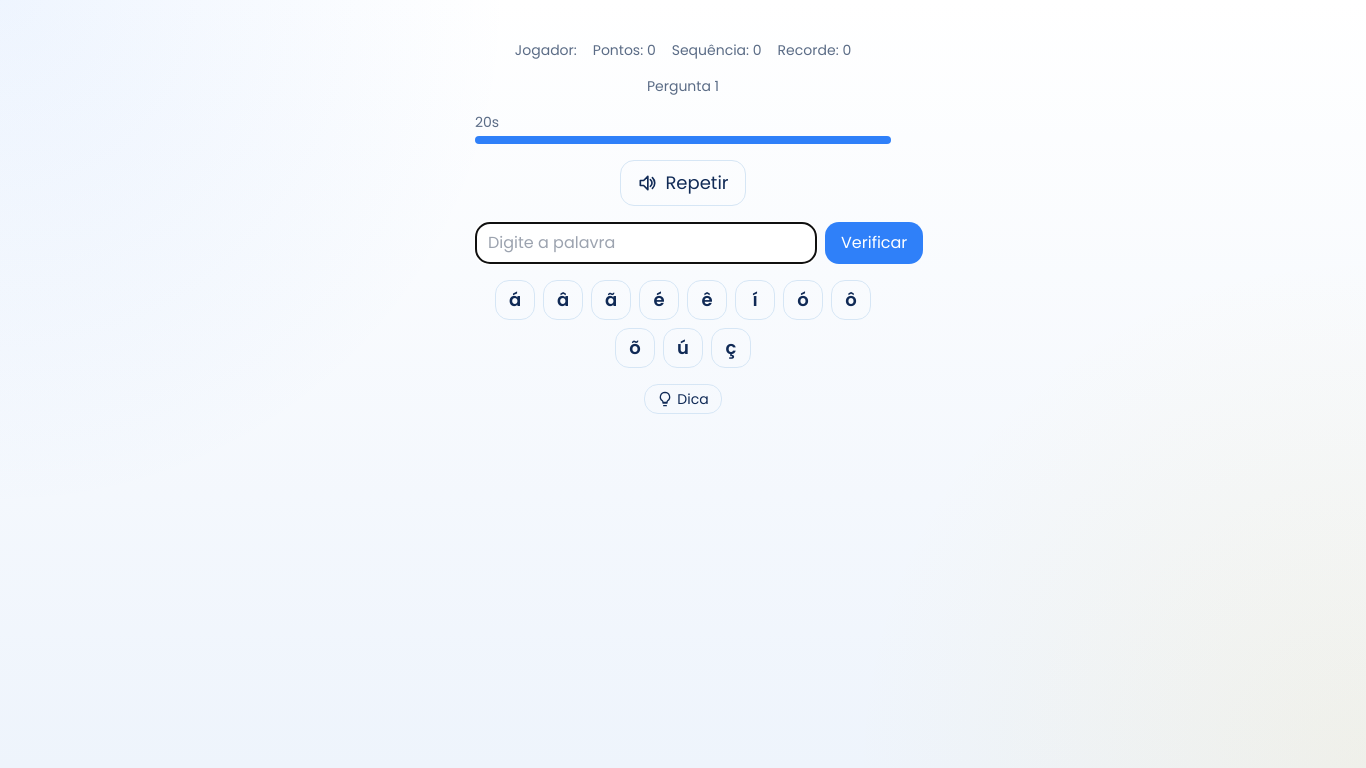
Test: Teclas de acento › keeps the cursor after the inserted letter
The image size is (1366, 768).
Type "a" into the field at (646, 243), box [475, 222, 817, 264]
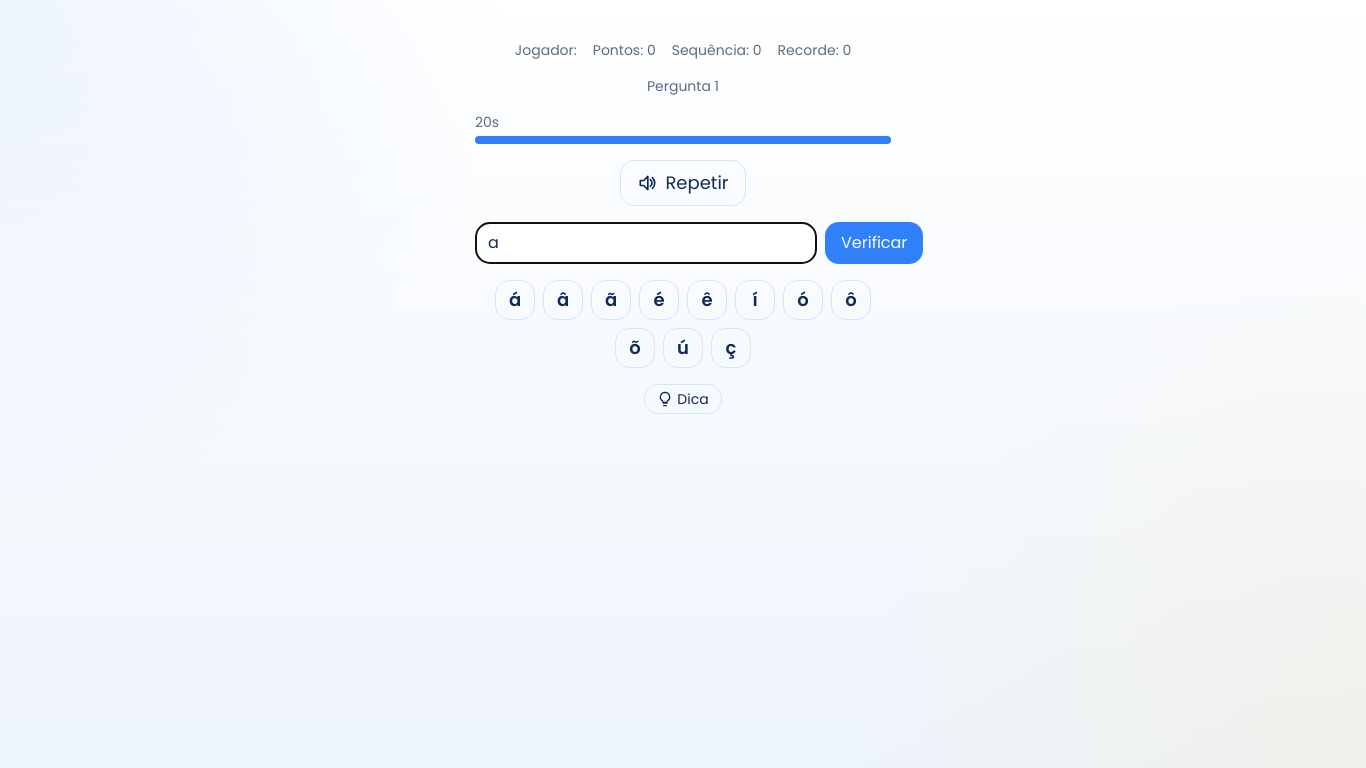
Click the button "ç" at (731, 348), box [711, 328, 751, 368]
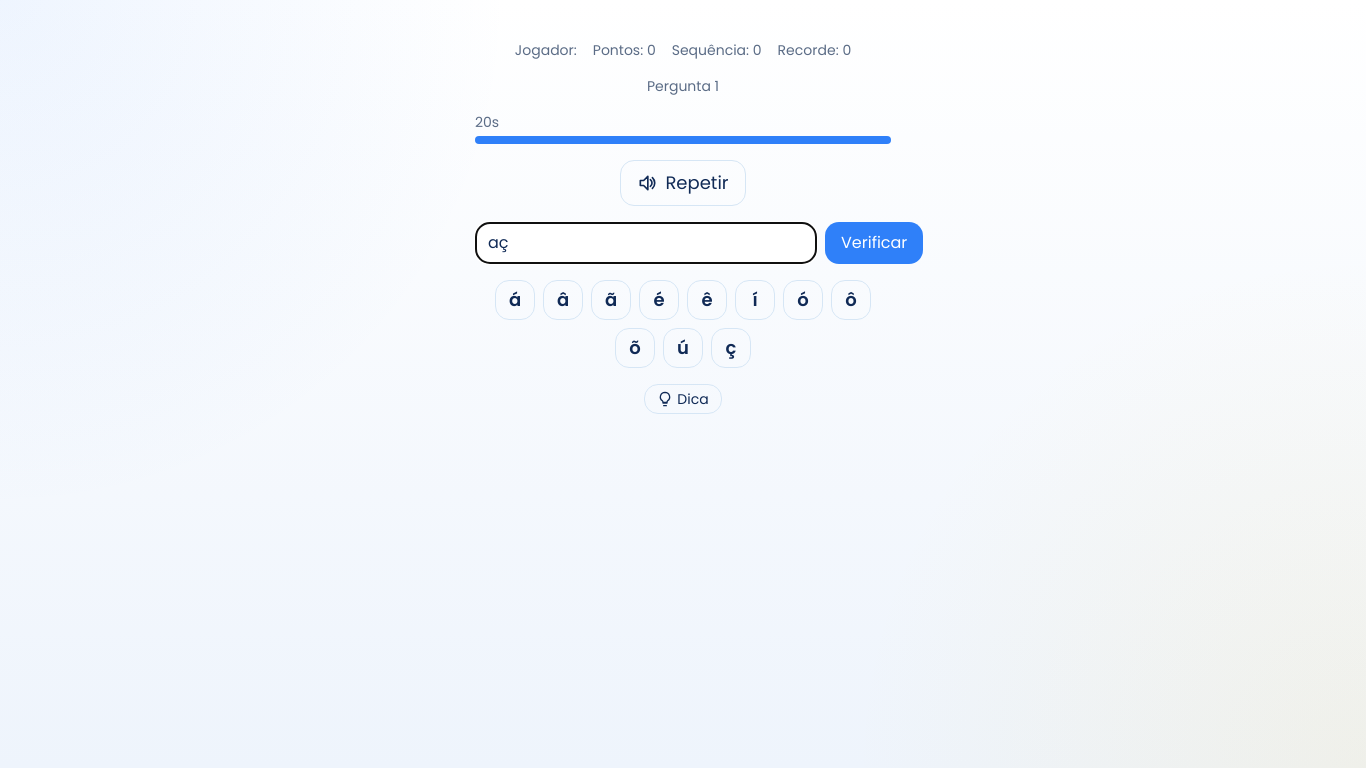
Click the button "ú" at (683, 348), box [663, 328, 703, 368]
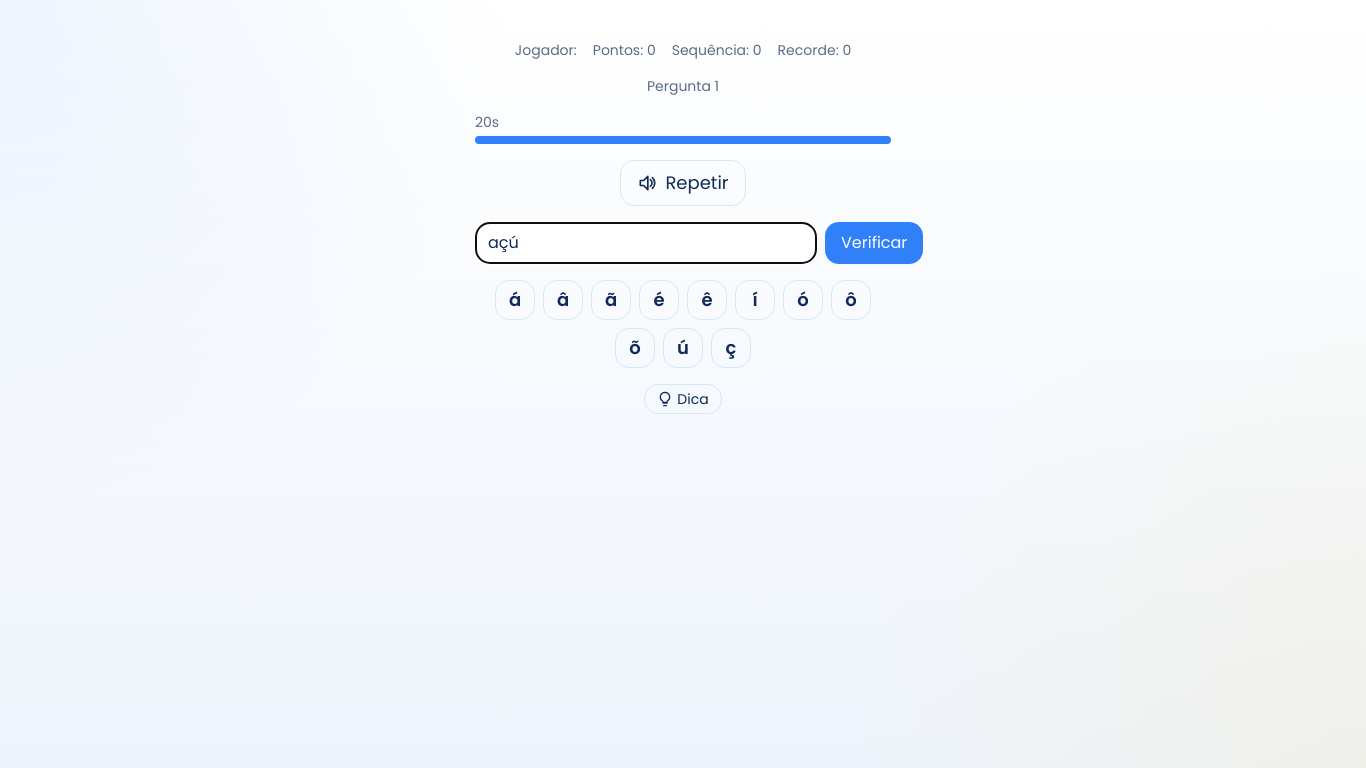
Expected: the field holds "açú", [475, 222, 817, 264]
